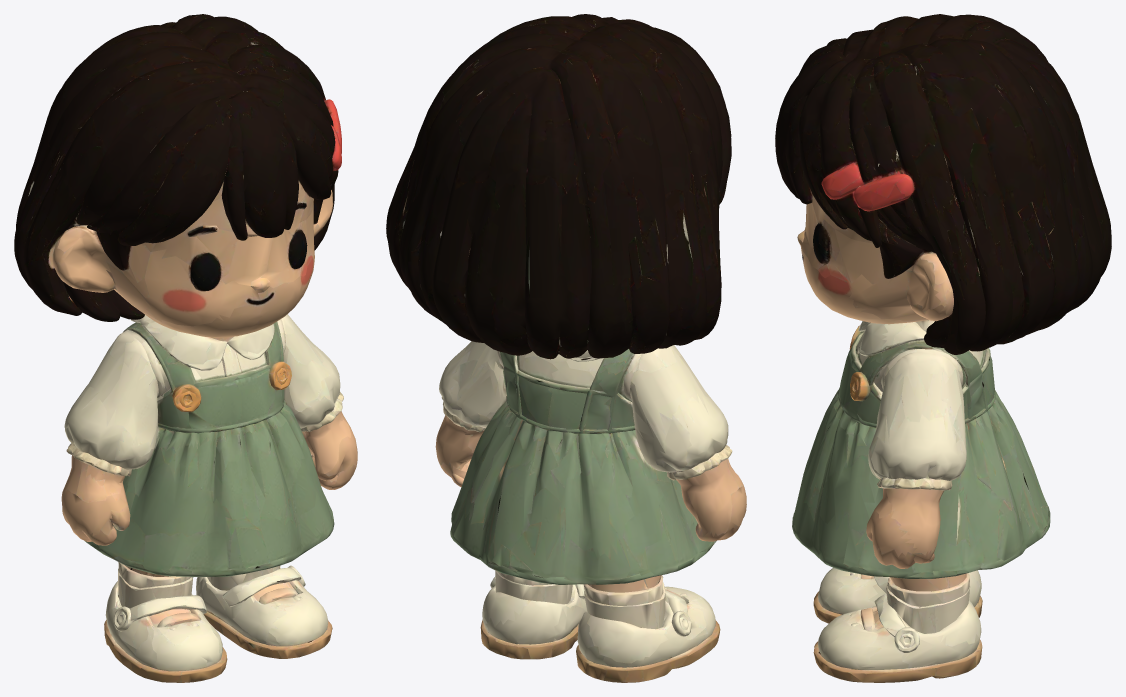
The model's file is upm_mv3pqnyv7oz.glb.
3 renders of one model, left to right at view 1: azimuth 30°, elevation 25°; view 2: azimuth 150°, elevation 25°; view 3: azimuth 270°, elevation 25°, orthographic. The views are drawn at different scales.
Bounding box in the file's own units: 1.03 × 1.9 × 0.9637.
Materials: 1 (1 with a texture image).
